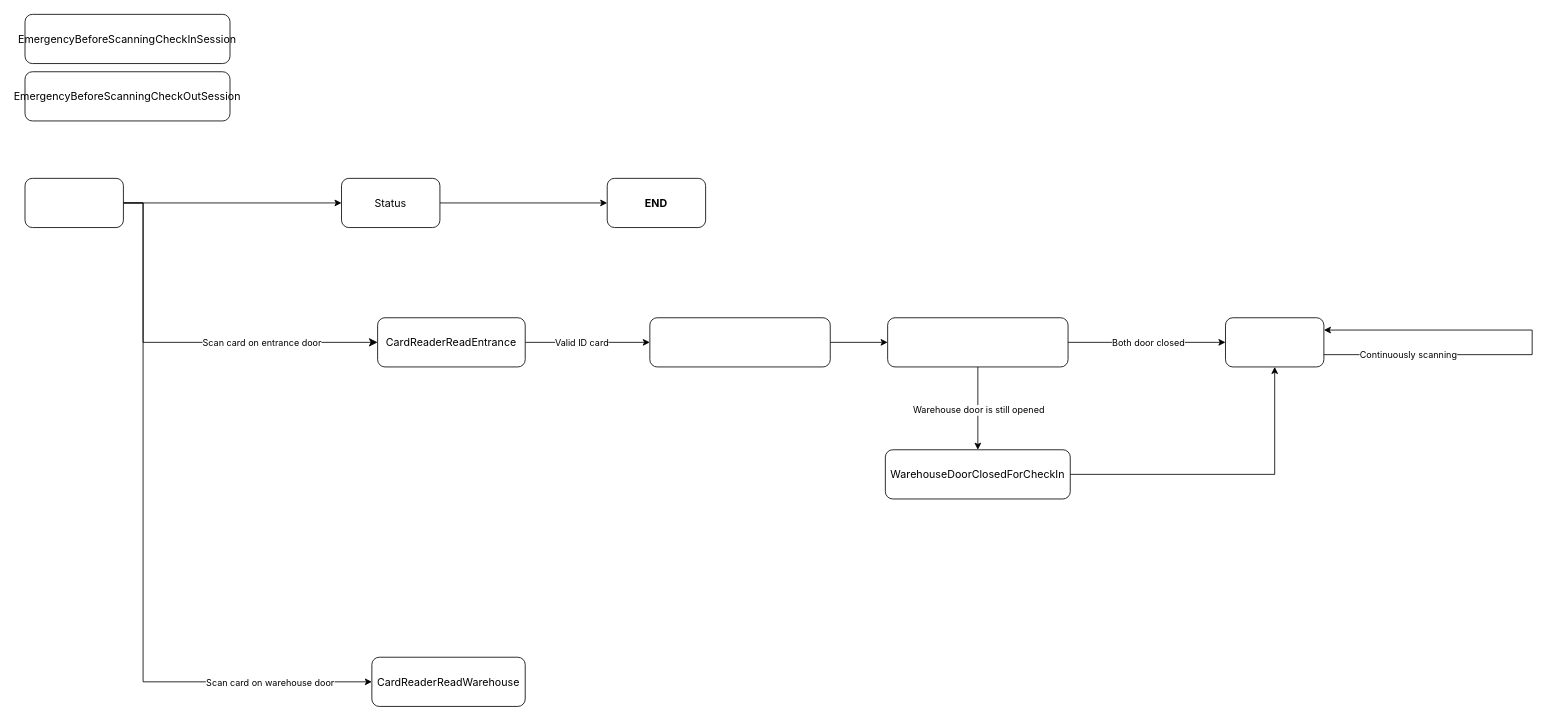
Some shapes in this 1553 by 721 pixel diagram are drawn without their labels. The centre of each missing label's shape, as x and y in pixels:
"BEGIN" goes at pixel 73 203.
"EntranceDoorClosedForCheckIn" goes at pixel 977 342.
"EntranceDoorOpenedForCheckIn" goes at pixel 739 342.
"RfidReaderRead" goes at pixel 1274 342.
